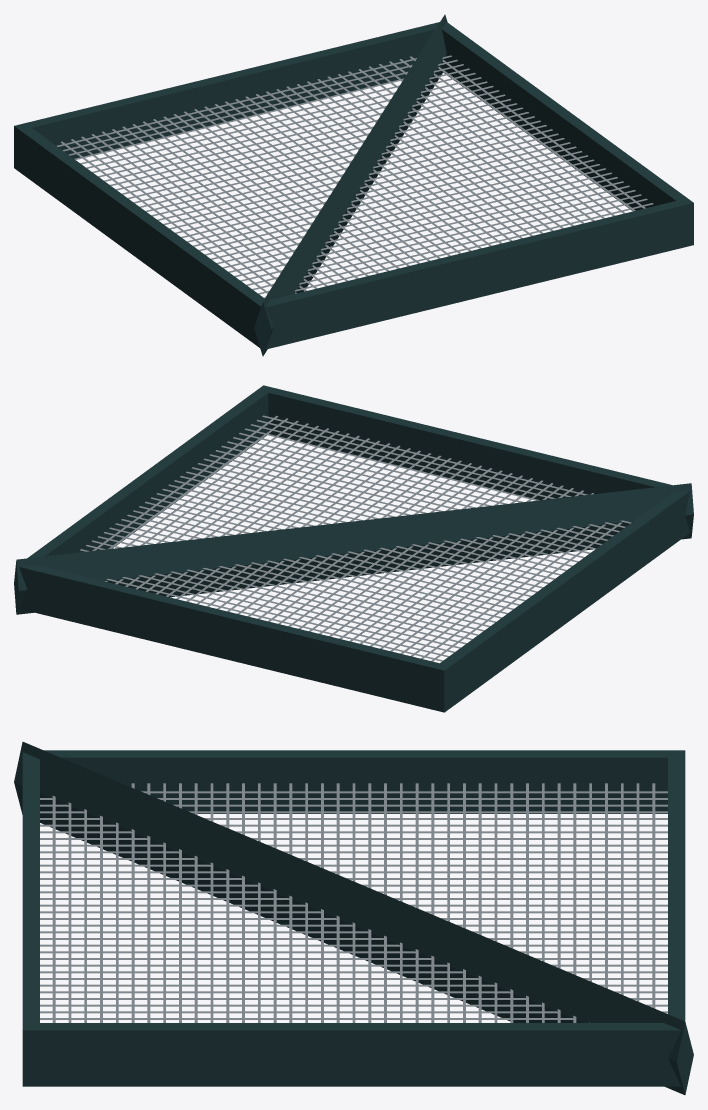
Rendered from aviary_roof_panel.fbx.
The picture shows the model from 3 angles, top to bottom: view 1: azimuth 30°, elevation 25°; view 2: azimuth 150°, elevation 25°; view 3: azimuth 270°, elevation 25°; orthographic projection. The views are drawn at different scales.
Visible parts, largest first — view 1: aviary_roof_panel; view 2: aviary_roof_panel; view 3: aviary_roof_panel.
Part boxes in pixels (x1,y1,x2,y2): aviary_roof_panel: (14, 14, 693, 356); aviary_roof_panel: (14, 385, 693, 712); aviary_roof_panel: (14, 742, 693, 1094).
Bounding box in the file's own units: 2.5 × 0.3 × 2.5.
